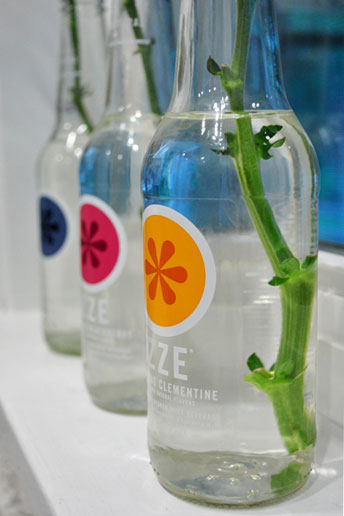Rec_Glass: (138, 2, 316, 510), (79, 1, 183, 419), (40, 1, 114, 360)
